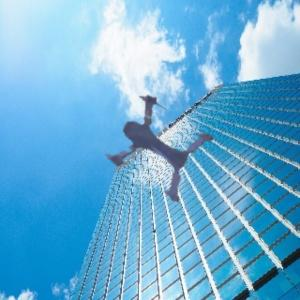drone: (83, 76, 214, 207)
